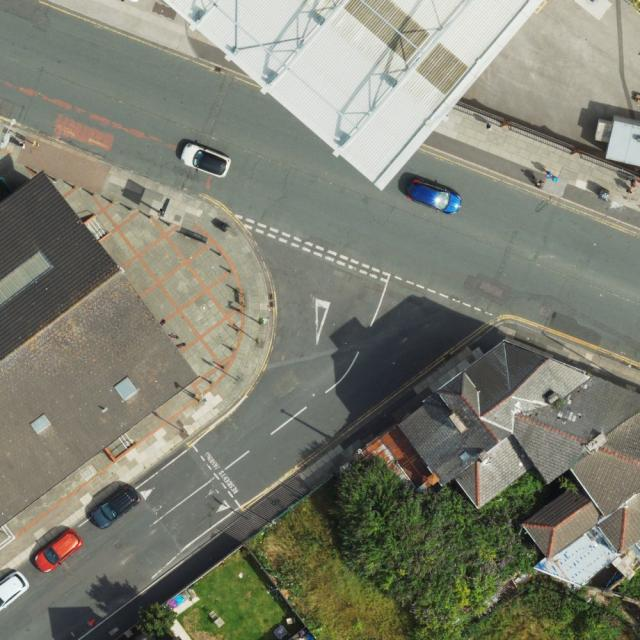roof: (161, 0, 542, 191), (0, 169, 200, 529), (400, 336, 640, 562)
skylight: (0, 250, 55, 306), (115, 376, 137, 401), (29, 414, 52, 435), (458, 451, 470, 463)
